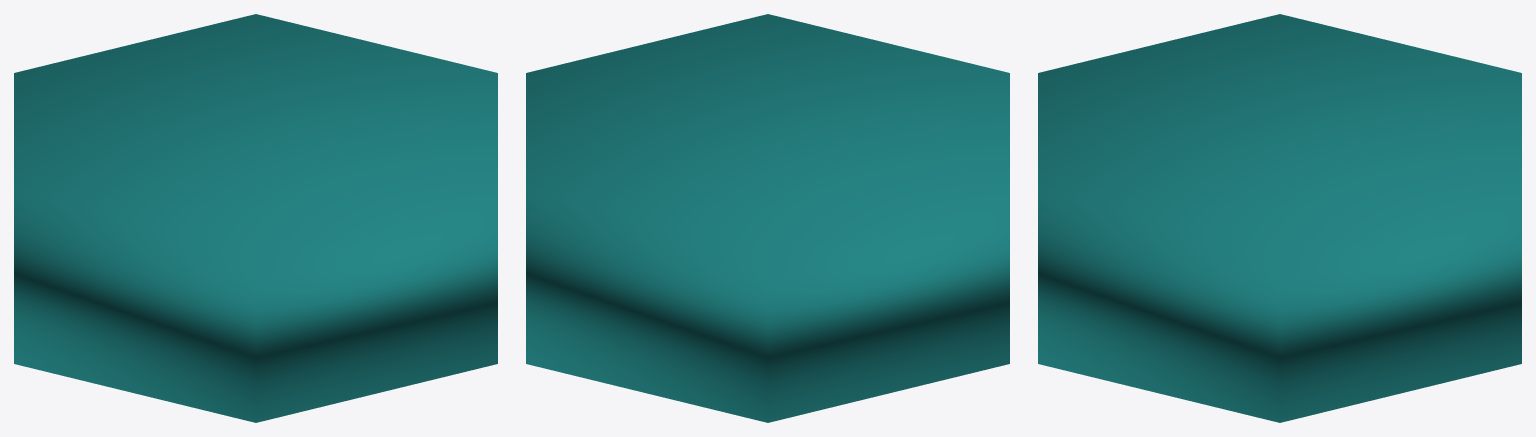
The model's file is checkers_collider.fbx.
3 views of the same model, side by side, from view 1: azimuth 30°, elevation 25°; view 2: azimuth 150°, elevation 25°; view 3: azimuth 270°, elevation 25° (orthographic).
Parts seen in each view (by area): view 1: checkers_collider; view 2: checkers_collider; view 3: checkers_collider.
Part boxes in pixels (box(x1,y1,x2,y2)): checkers_collider: box(14, 14, 497, 422); checkers_collider: box(526, 14, 1009, 422); checkers_collider: box(1038, 14, 1521, 422).
Bounding box in the file's own units: 5.01 × 1.71 × 4.34.
